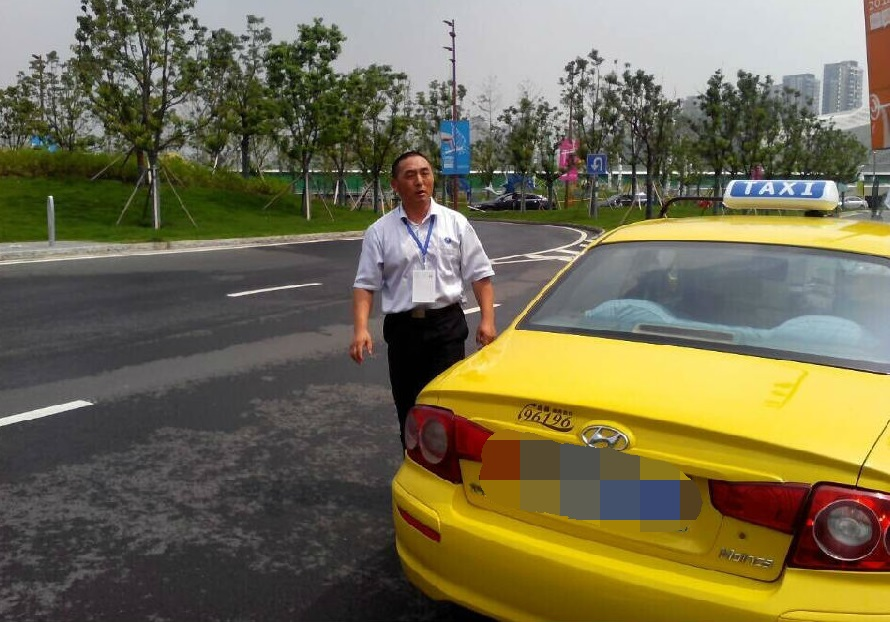taxi: (385, 175, 890, 622)
